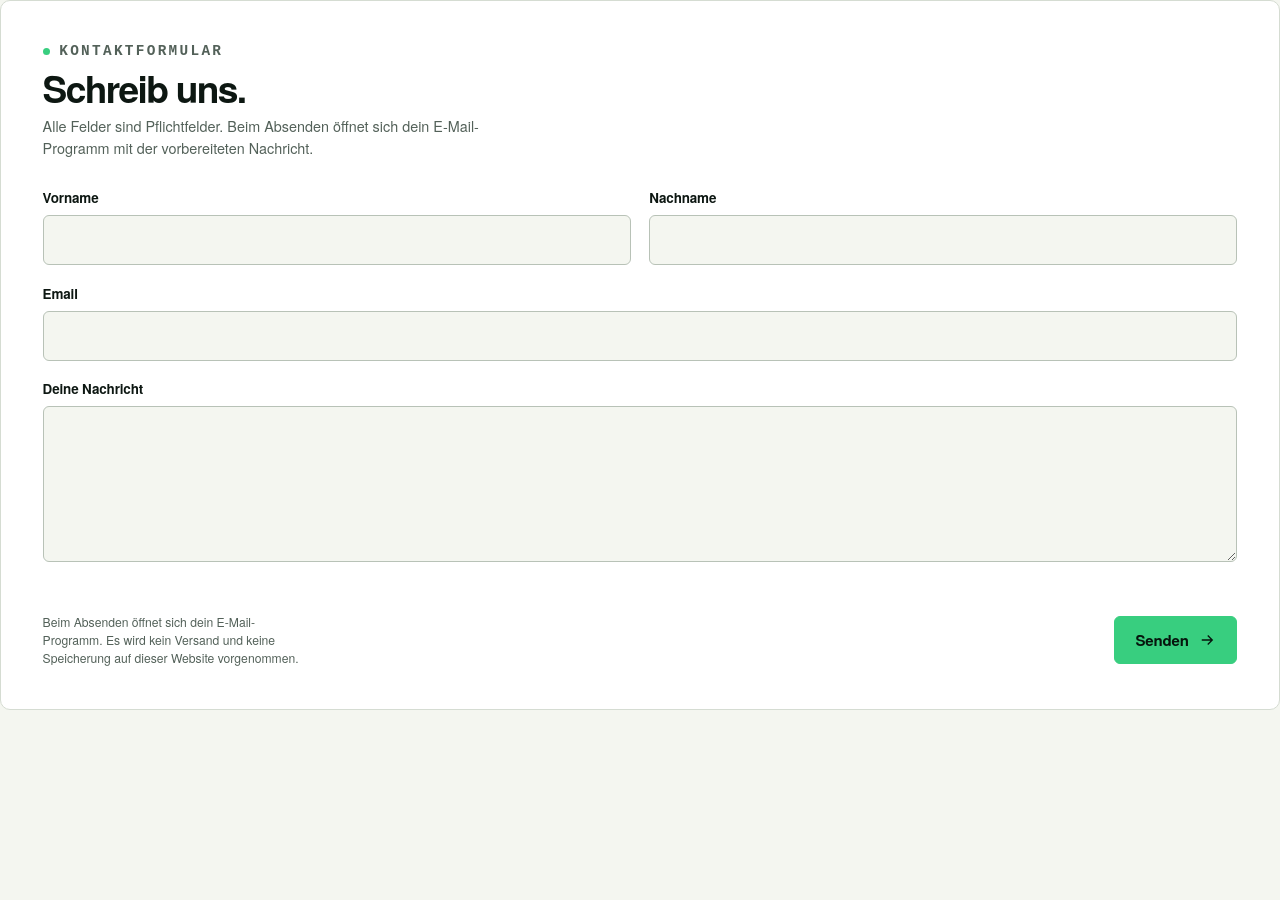
Test: ContactForm › builds the mailto target on a valid submit and shows the confirmation
In the field labelled "Vorname": (337, 240) left=43, top=215, right=631, bottom=265, type "Max"
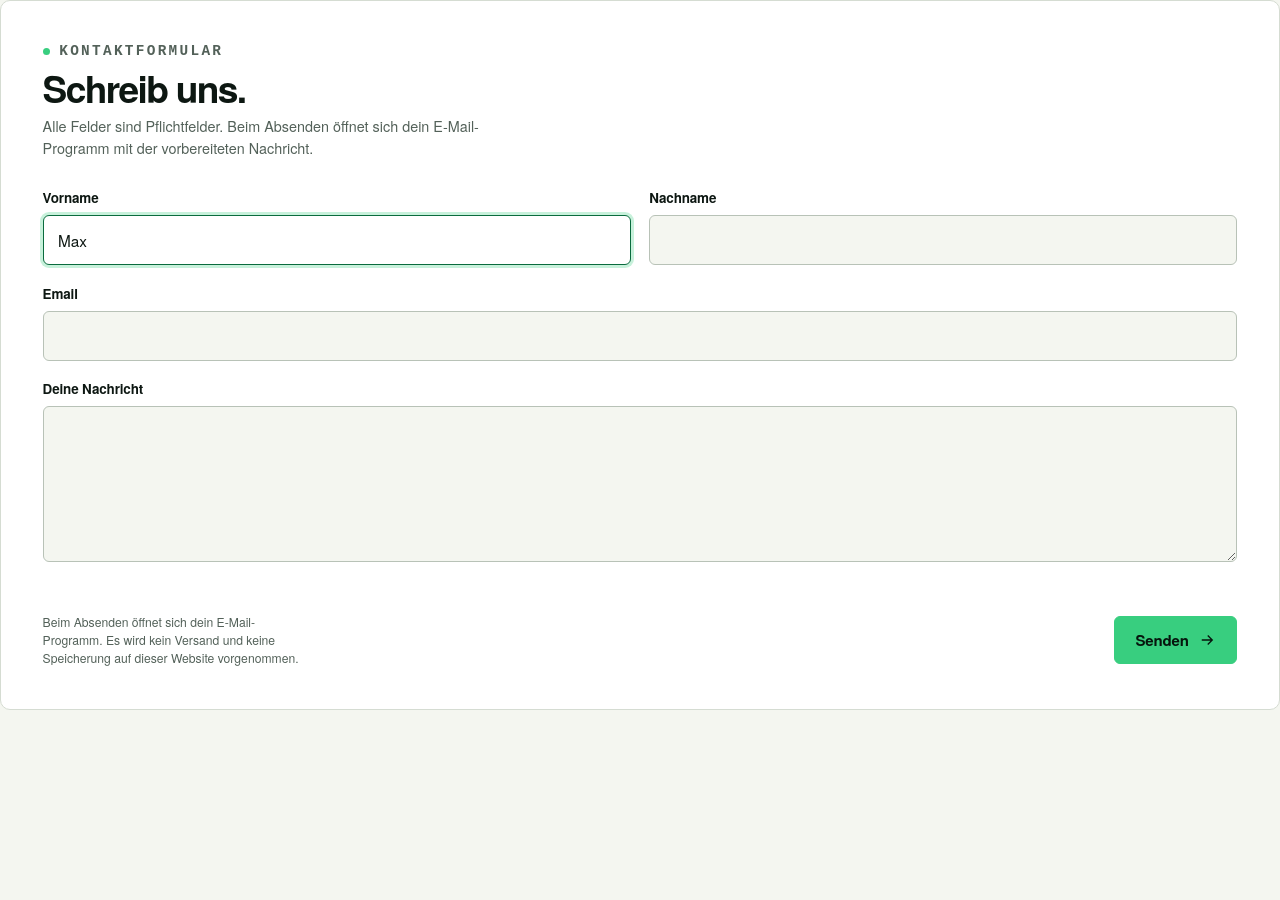
In the field labelled "Nachname": (943, 240) left=649, top=215, right=1237, bottom=265, type "Mustermann"
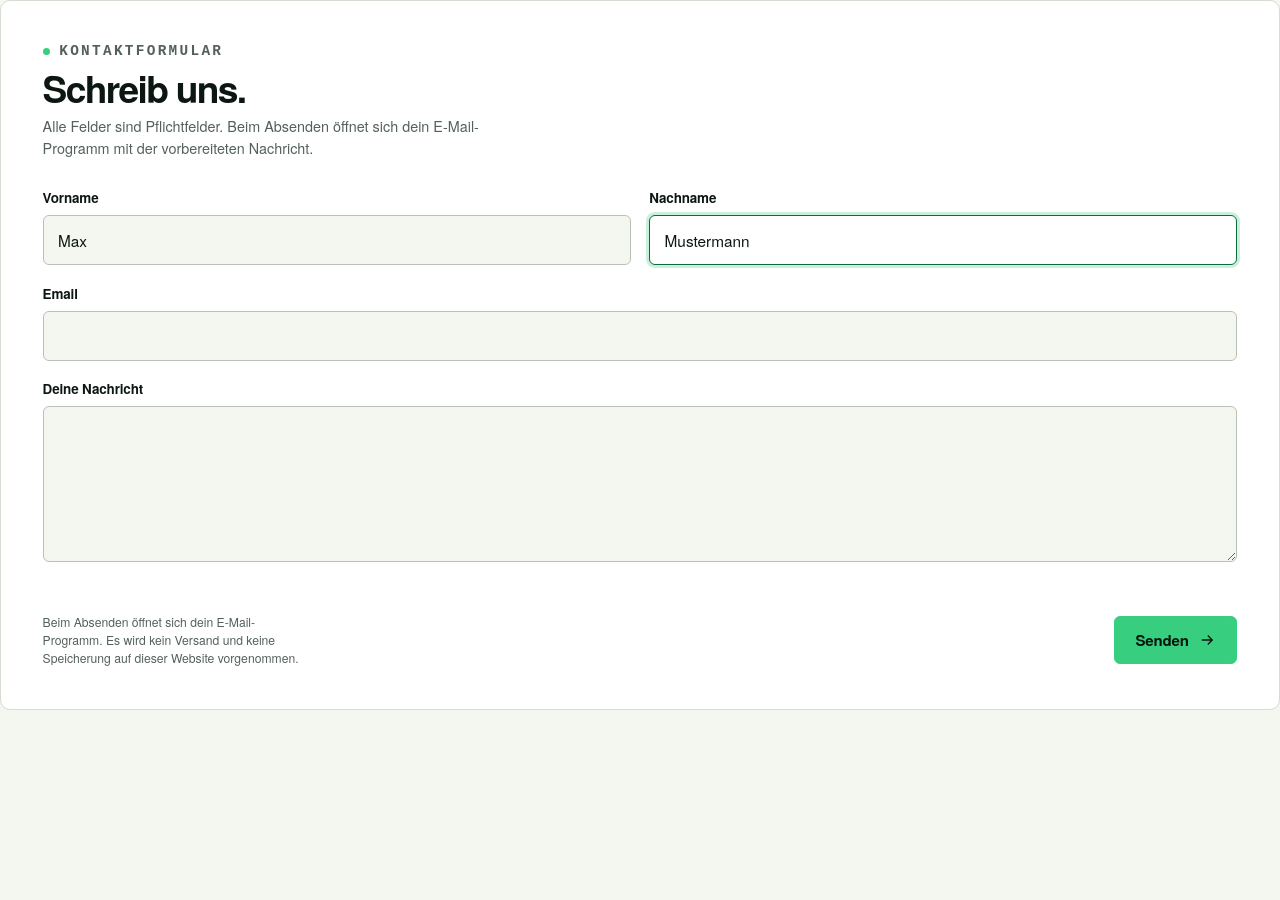
In the field labelled "Email": (640, 336) left=43, top=311, right=1237, bottom=361, type "max@beispiel.at"
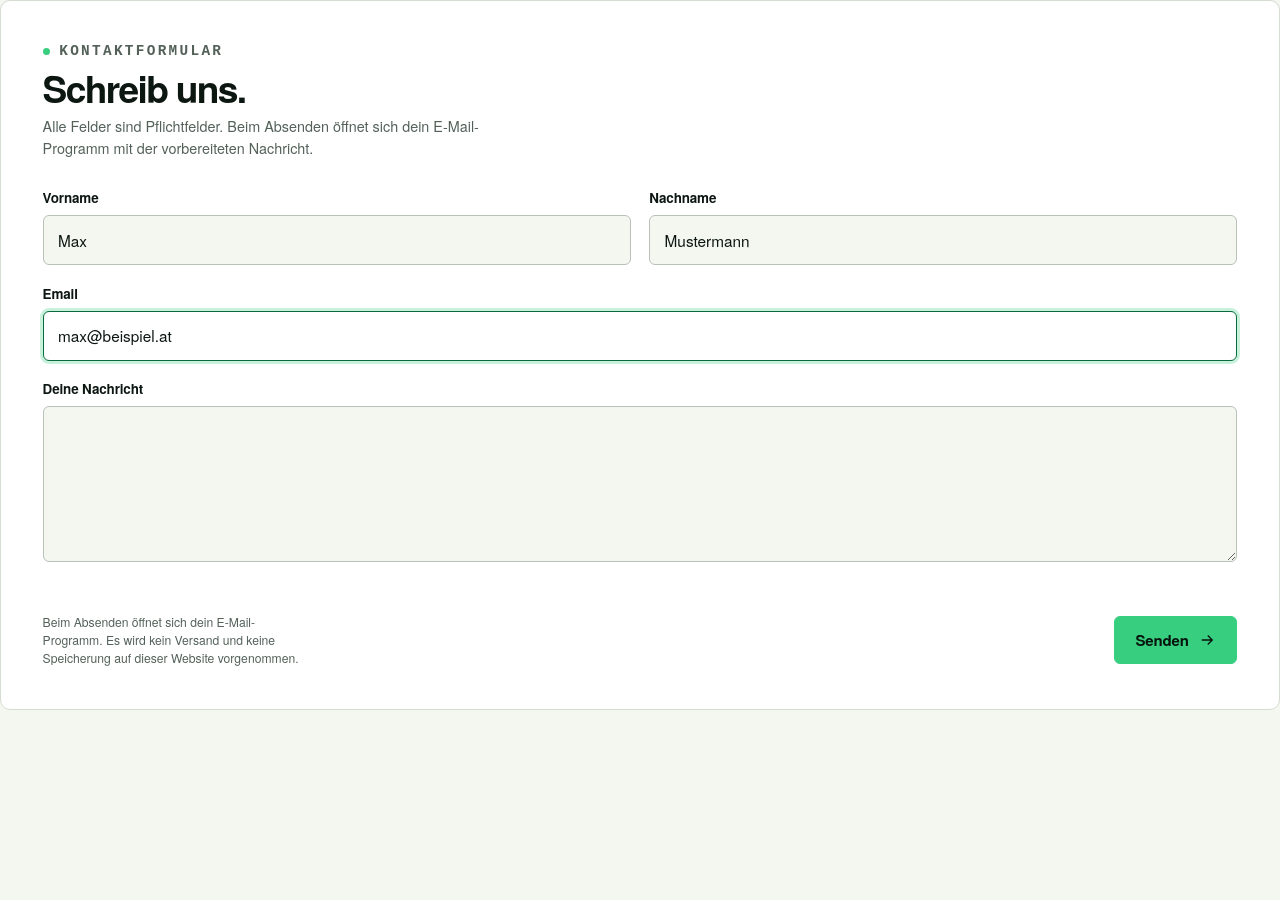
In the text box labelled "Deine Nachricht": (640, 484) left=43, top=406, right=1237, bottom=562, type "Ich interessiere mich für den EquiCube."
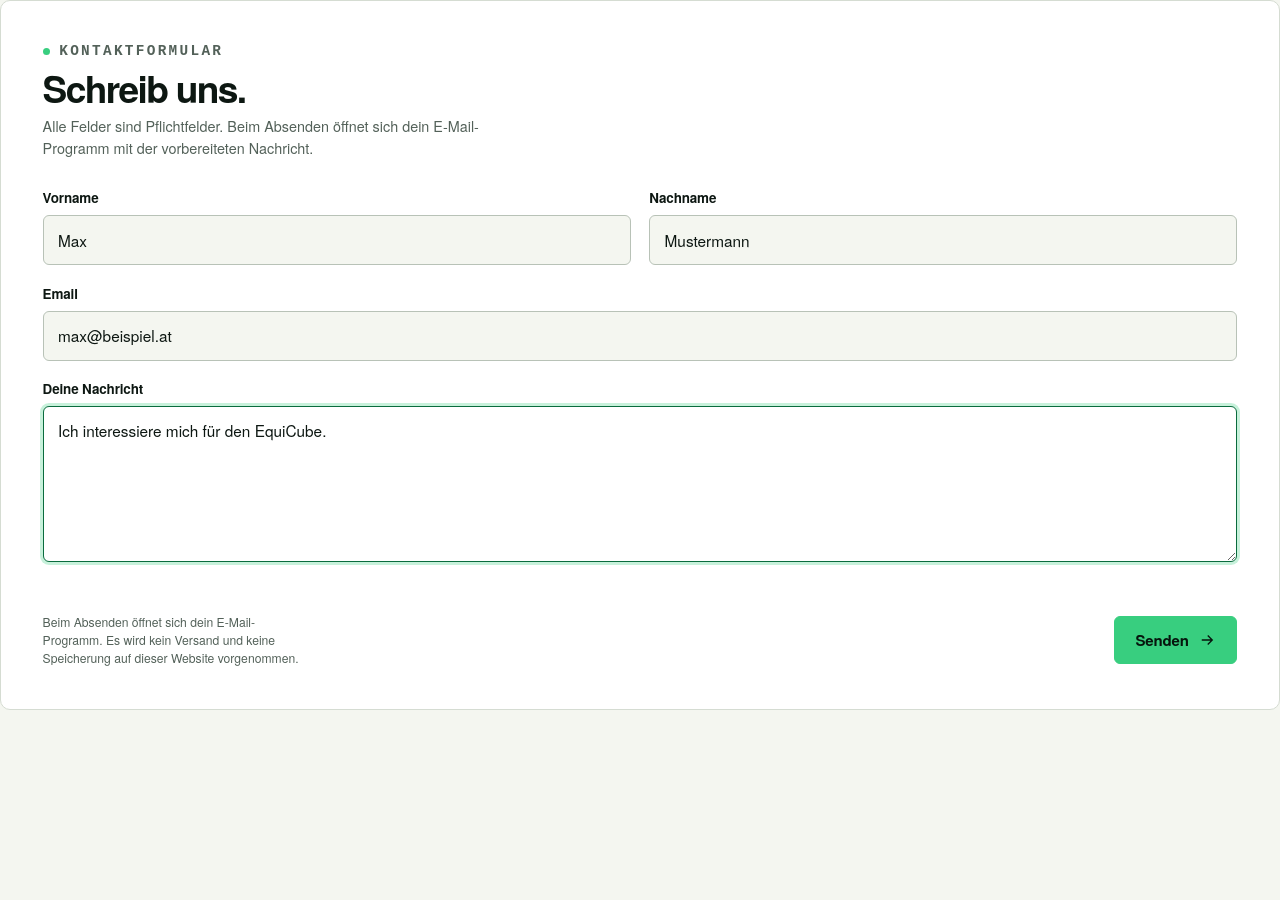
Click the button "Senden": (1176, 640) left=1114, top=616, right=1237, bottom=664
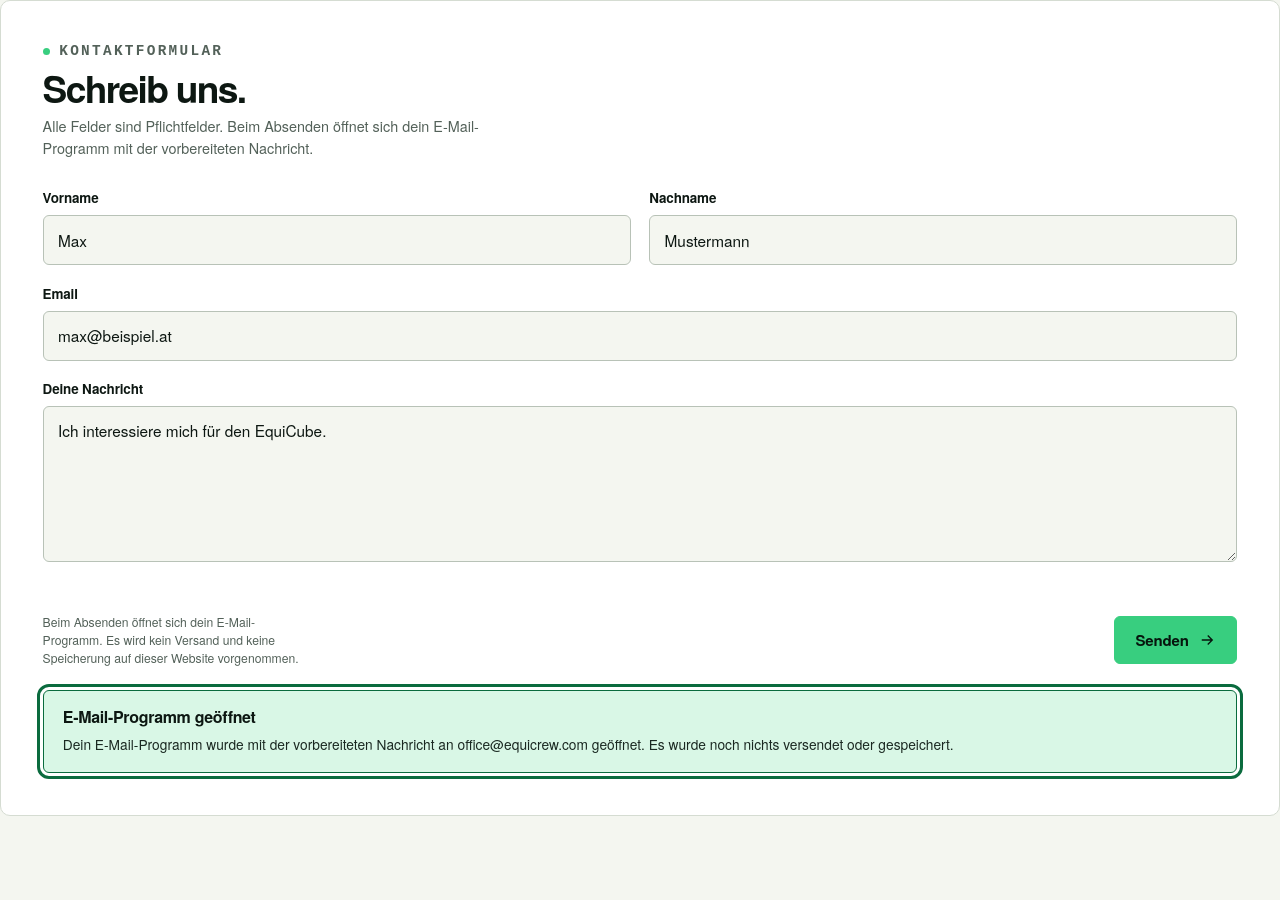
Expected: the heading "E-Mail-Programm geöffnet" is shown, left=63, top=704, right=256, bottom=728
Expected: the text "wurde mit der vorbereiteten Nachricht an office@equicrew.com geöffnet" is shown, left=63, top=734, right=954, bottom=754
Expected: the text "Es wurde noch nichts versendet oder gespeichert." is shown, left=588, top=734, right=954, bottom=754
